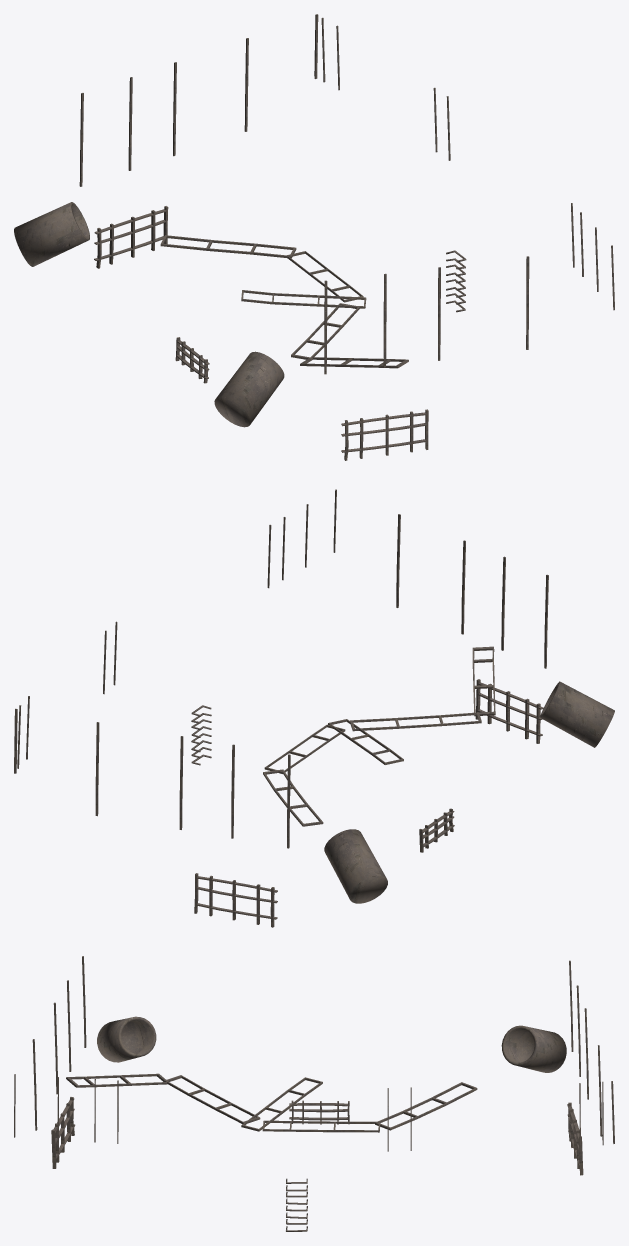
File: SM_Corridor_07_05.fbx
3 views of the same model, one above another, from view 1: azimuth 30°, elevation 25°; view 2: azimuth 150°, elevation 25°; view 3: azimuth 270°, elevation 25° (orthographic). The views are drawn at different scales.
Visible parts, largest first — view 1: SM_Corridor_07_05; view 2: SM_Corridor_07_05; view 3: SM_Corridor_07_05.
Boxes of the visible parts, <box> form: SM_Corridor_07_05: <box>14,14,614,460</box>; SM_Corridor_07_05: <box>14,489,614,927</box>; SM_Corridor_07_05: <box>14,956,614,1231</box>.
Bounding box in the file's own units: 3754 × 1740 × 5496.
